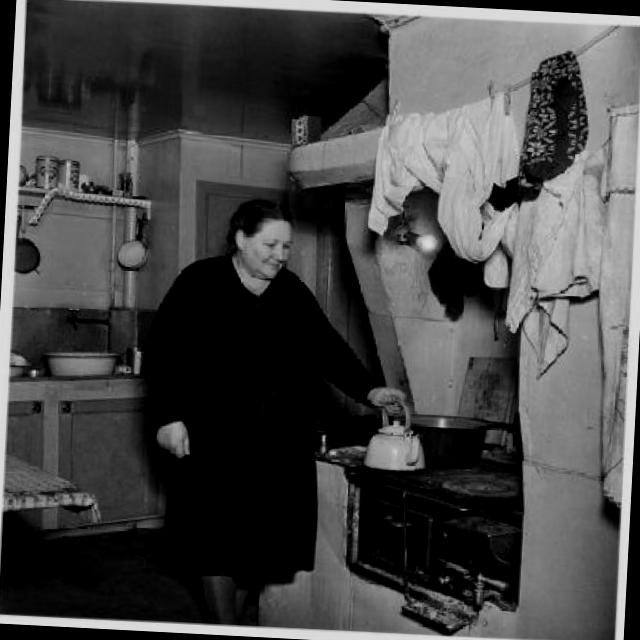Person: (132, 196, 418, 634)
